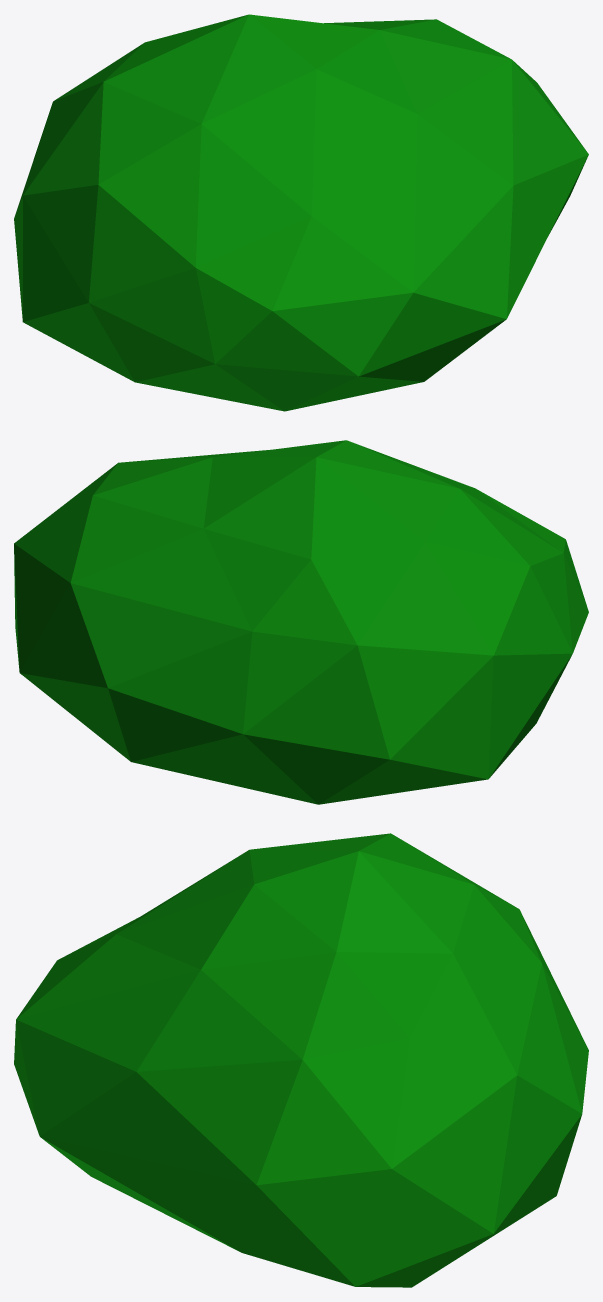
The model's file is lp_tree1_Icosphere_019.obj.
The picture shows the model from 3 angles, top to bottom: view 1: azimuth 30°, elevation 25°; view 2: azimuth 150°, elevation 25°; view 3: azimuth 270°, elevation 25°; orthographic projection. The views are drawn at different scales.
Visible parts, largest first — view 1: lp_tree1_Icosphere_019; view 2: lp_tree1_Icosphere_019; view 3: lp_tree1_Icosphere_019.
Part boxes in pixels (bbox=[...]): lp_tree1_Icosphere_019: bbox=[14, 14, 588, 411]; lp_tree1_Icosphere_019: bbox=[14, 440, 588, 804]; lp_tree1_Icosphere_019: bbox=[14, 833, 588, 1287].
Bounding box in the file's own units: 4.08 × 2.42 × 3.61.
